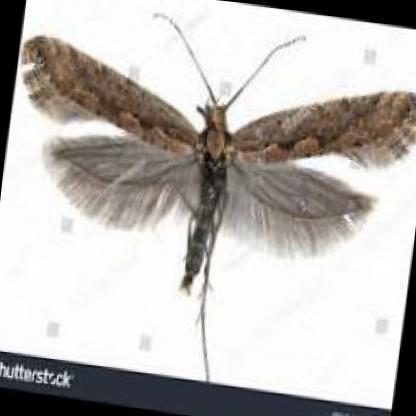plutella: (20, 13, 416, 293)
